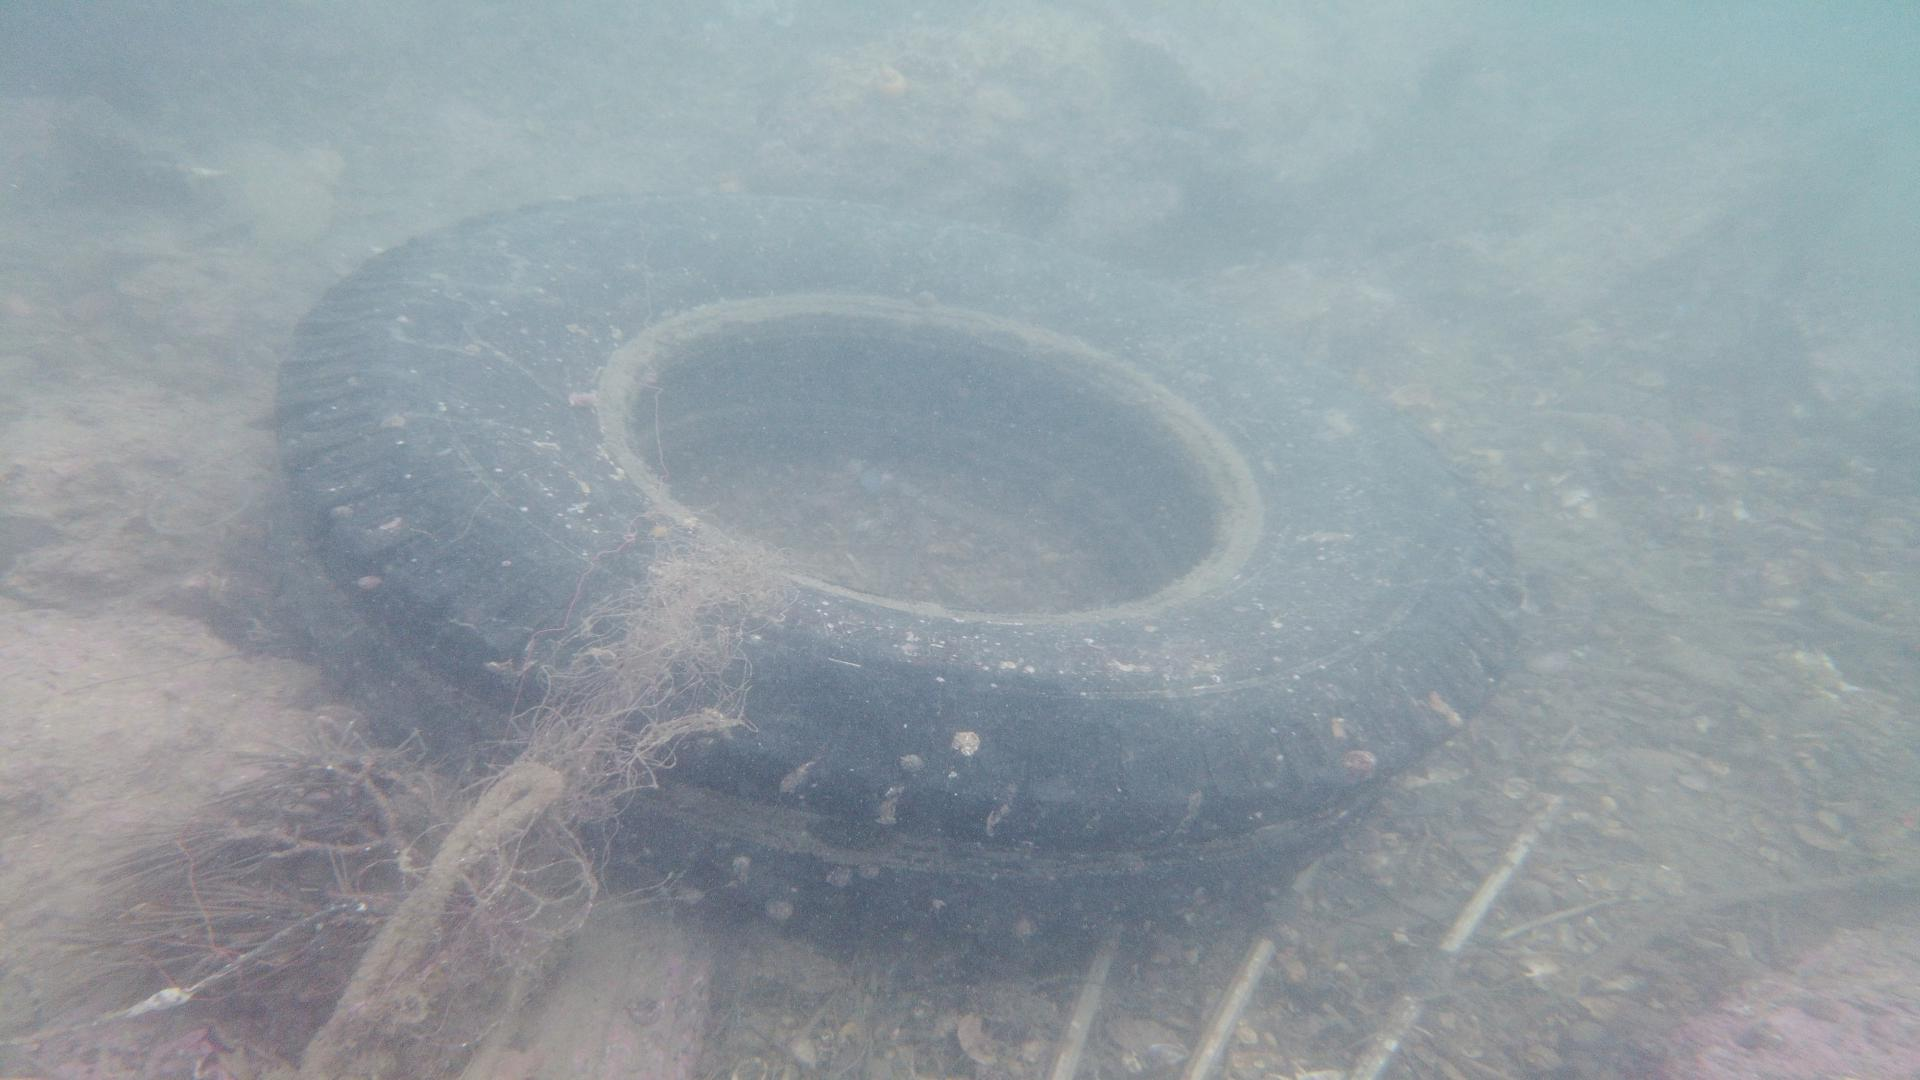rope: (295, 762, 566, 1080)
tire: (270, 177, 1528, 953)
